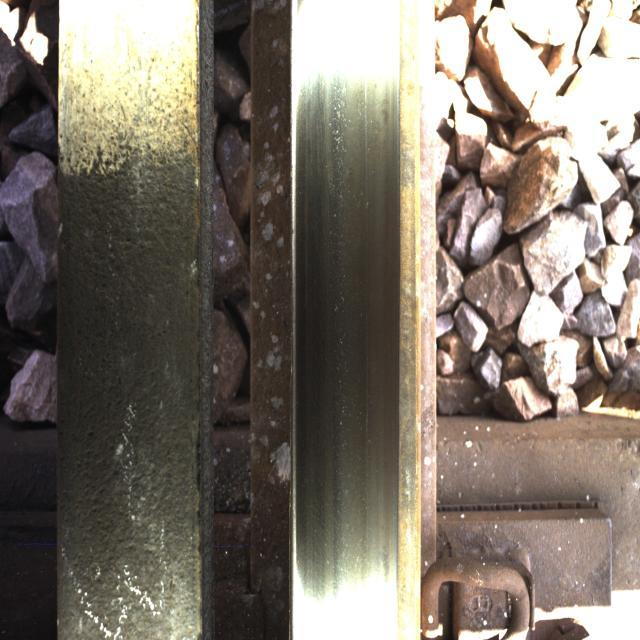break: (303, 19, 395, 596)
